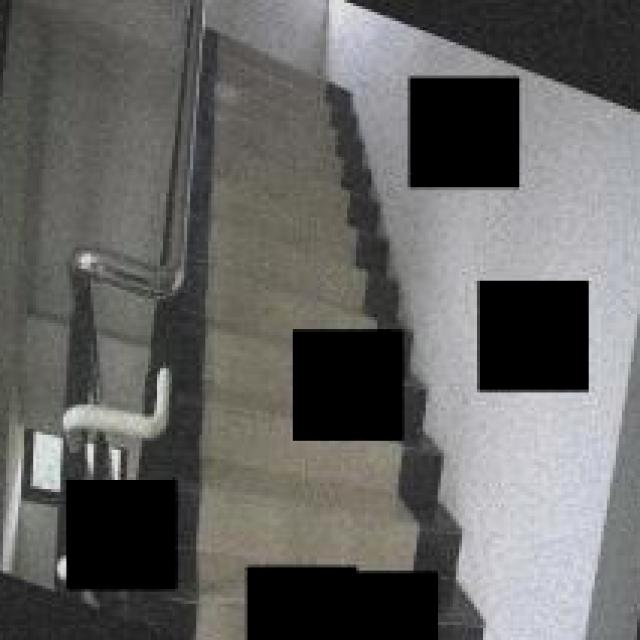upstair: (204, 70, 376, 300)
